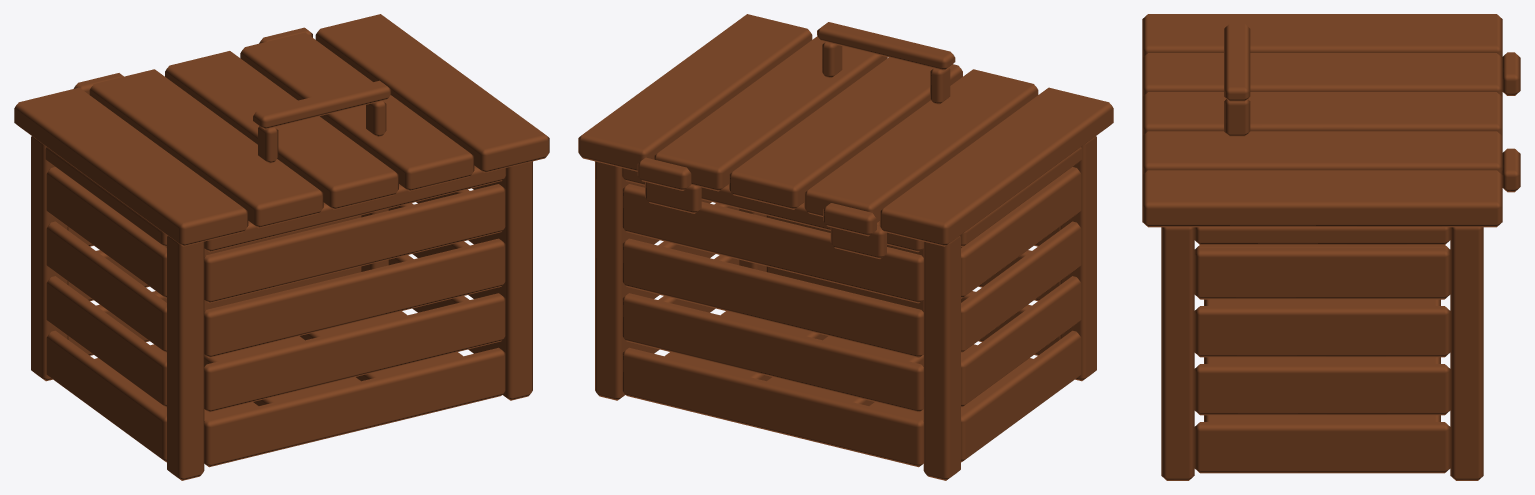
Rendered from GardenBox.glb.
The picture shows the model from 3 angles, left to right: view 1: azimuth 30°, elevation 25°; view 2: azimuth 150°, elevation 25°; view 3: azimuth 270°, elevation 25°; orthographic projection. The views are drawn at different scales.
Parts seen in each view (by area): view 1: GardenBox_Body_Planks, GardenBox_Lid_HingeOrigin; view 2: GardenBox_Body_Planks, GardenBox_Lid_HingeOrigin; view 3: GardenBox_Body_Planks, GardenBox_Lid_HingeOrigin.
Part boxes in pixels (x1=…): GardenBox_Body_Planks: x1=31, y1=136, x2=532, y2=480; GardenBox_Lid_HingeOrigin: x1=14, y1=14, x2=549, y2=246; GardenBox_Body_Planks: x1=595, y1=136, x2=1096, y2=480; GardenBox_Lid_HingeOrigin: x1=578, y1=14, x2=1113, y2=246; GardenBox_Body_Planks: x1=1161, y1=227, x2=1483, y2=480; GardenBox_Lid_HingeOrigin: x1=1142, y1=14, x2=1520, y2=227.
Bounding box in the file's own units: 0.96 × 0.7825 × 0.798.
